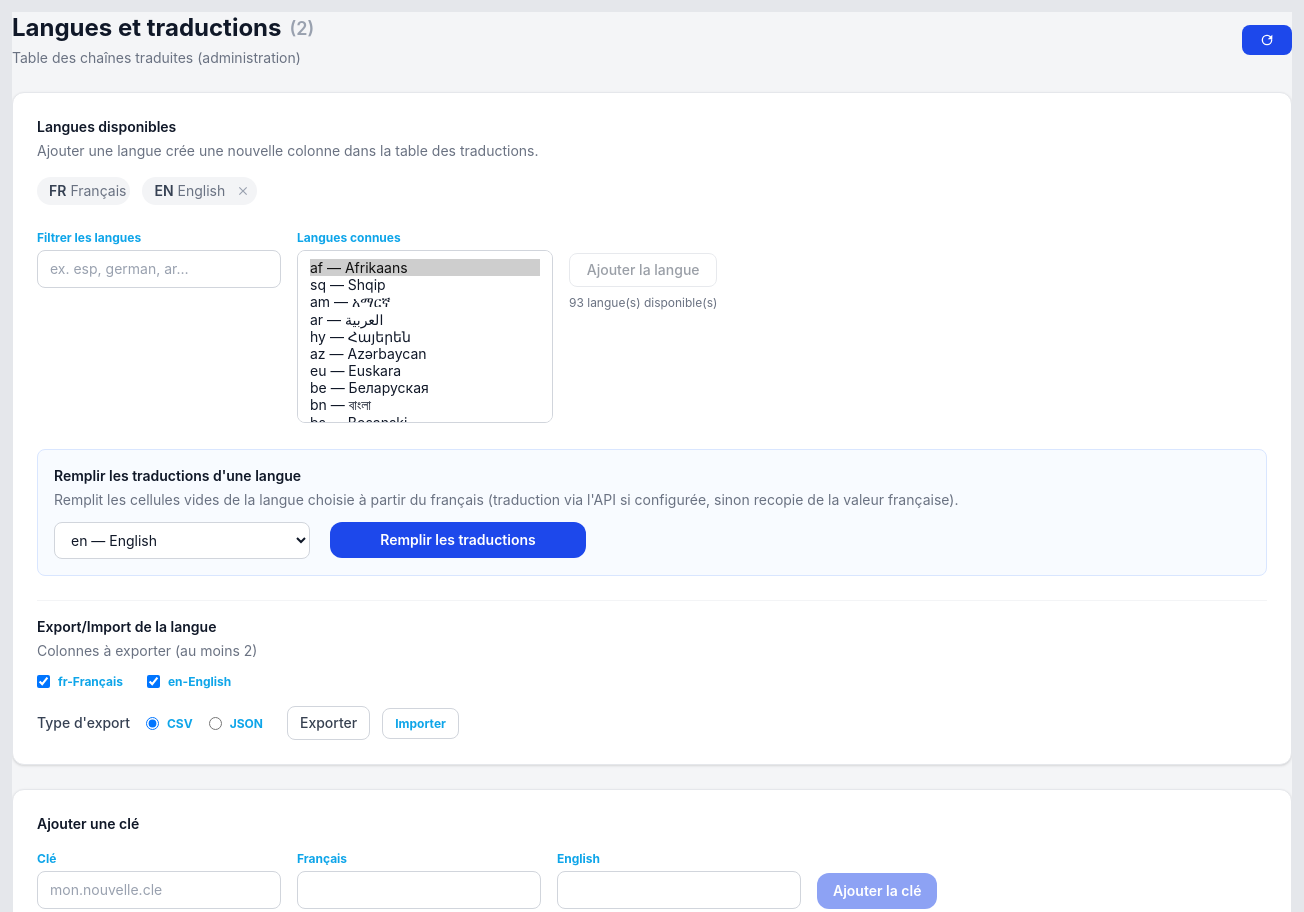
Test: Languages › désactive l’export avec moins de deux langues cochées
This screenshot has width=1304, height=912.
Expected: the button "Exporter" is enabled, [287,706,370,740]
Click the checkbox labelled "en-English": (154, 682) [147,675,160,688]
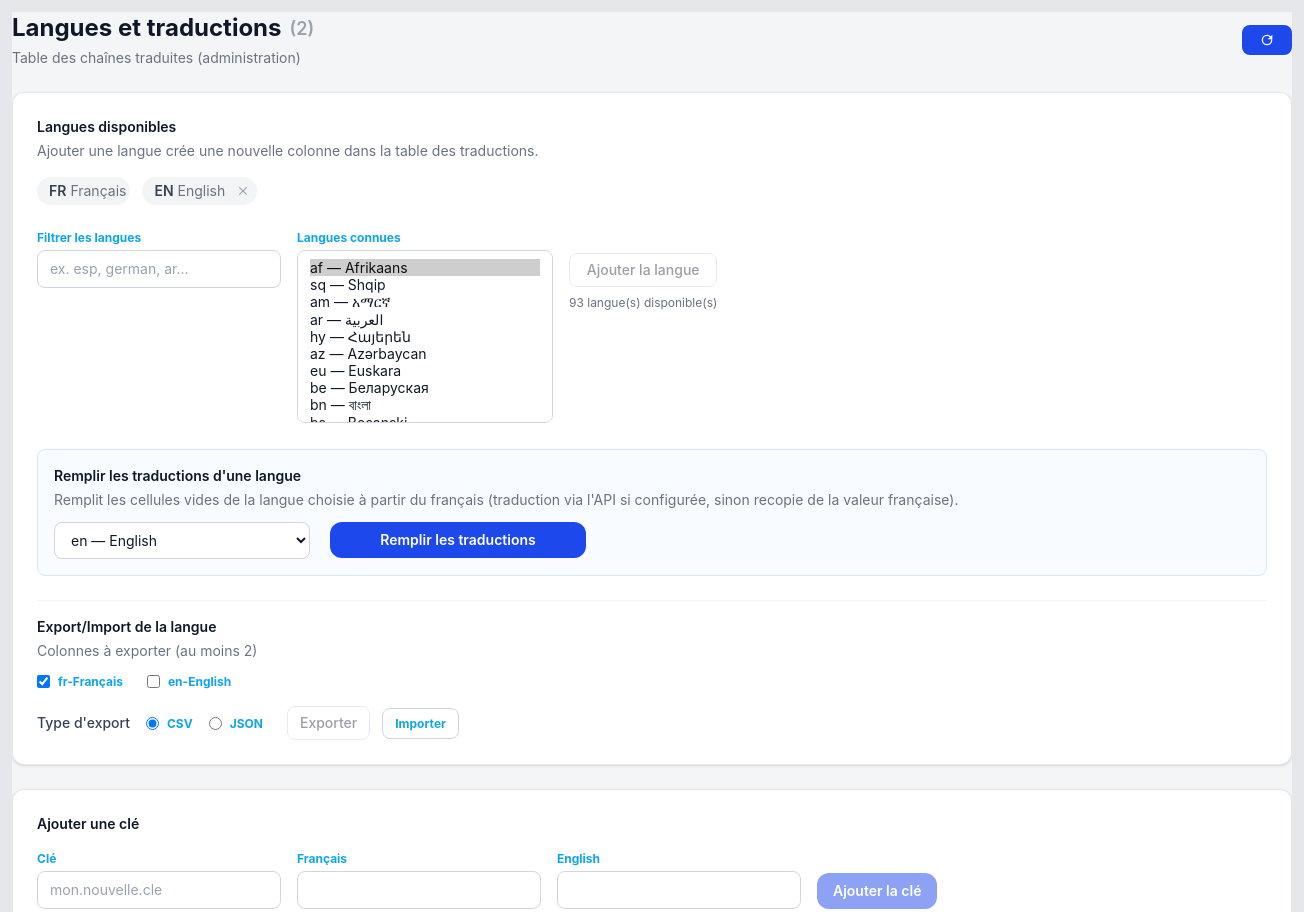
Expected: the button "Exporter" is disabled, [287,706,370,740]
